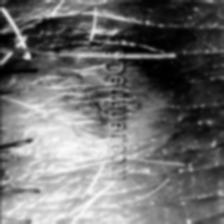Potentially Malignant Skin Tumors: (58, 62, 134, 140)
